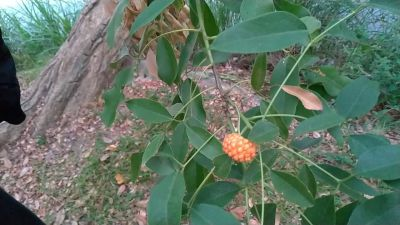eggs: (221, 131, 256, 162)
